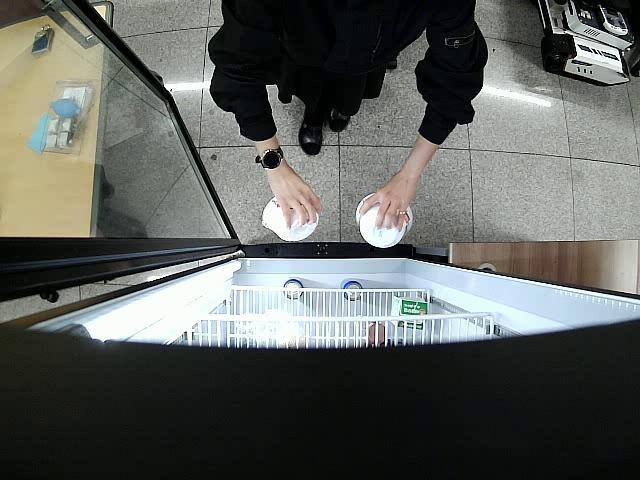09_yukGaeJang: (356, 193, 414, 248), (262, 197, 318, 242)
